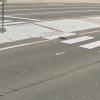Crosswalk: (47, 25, 100, 60)
